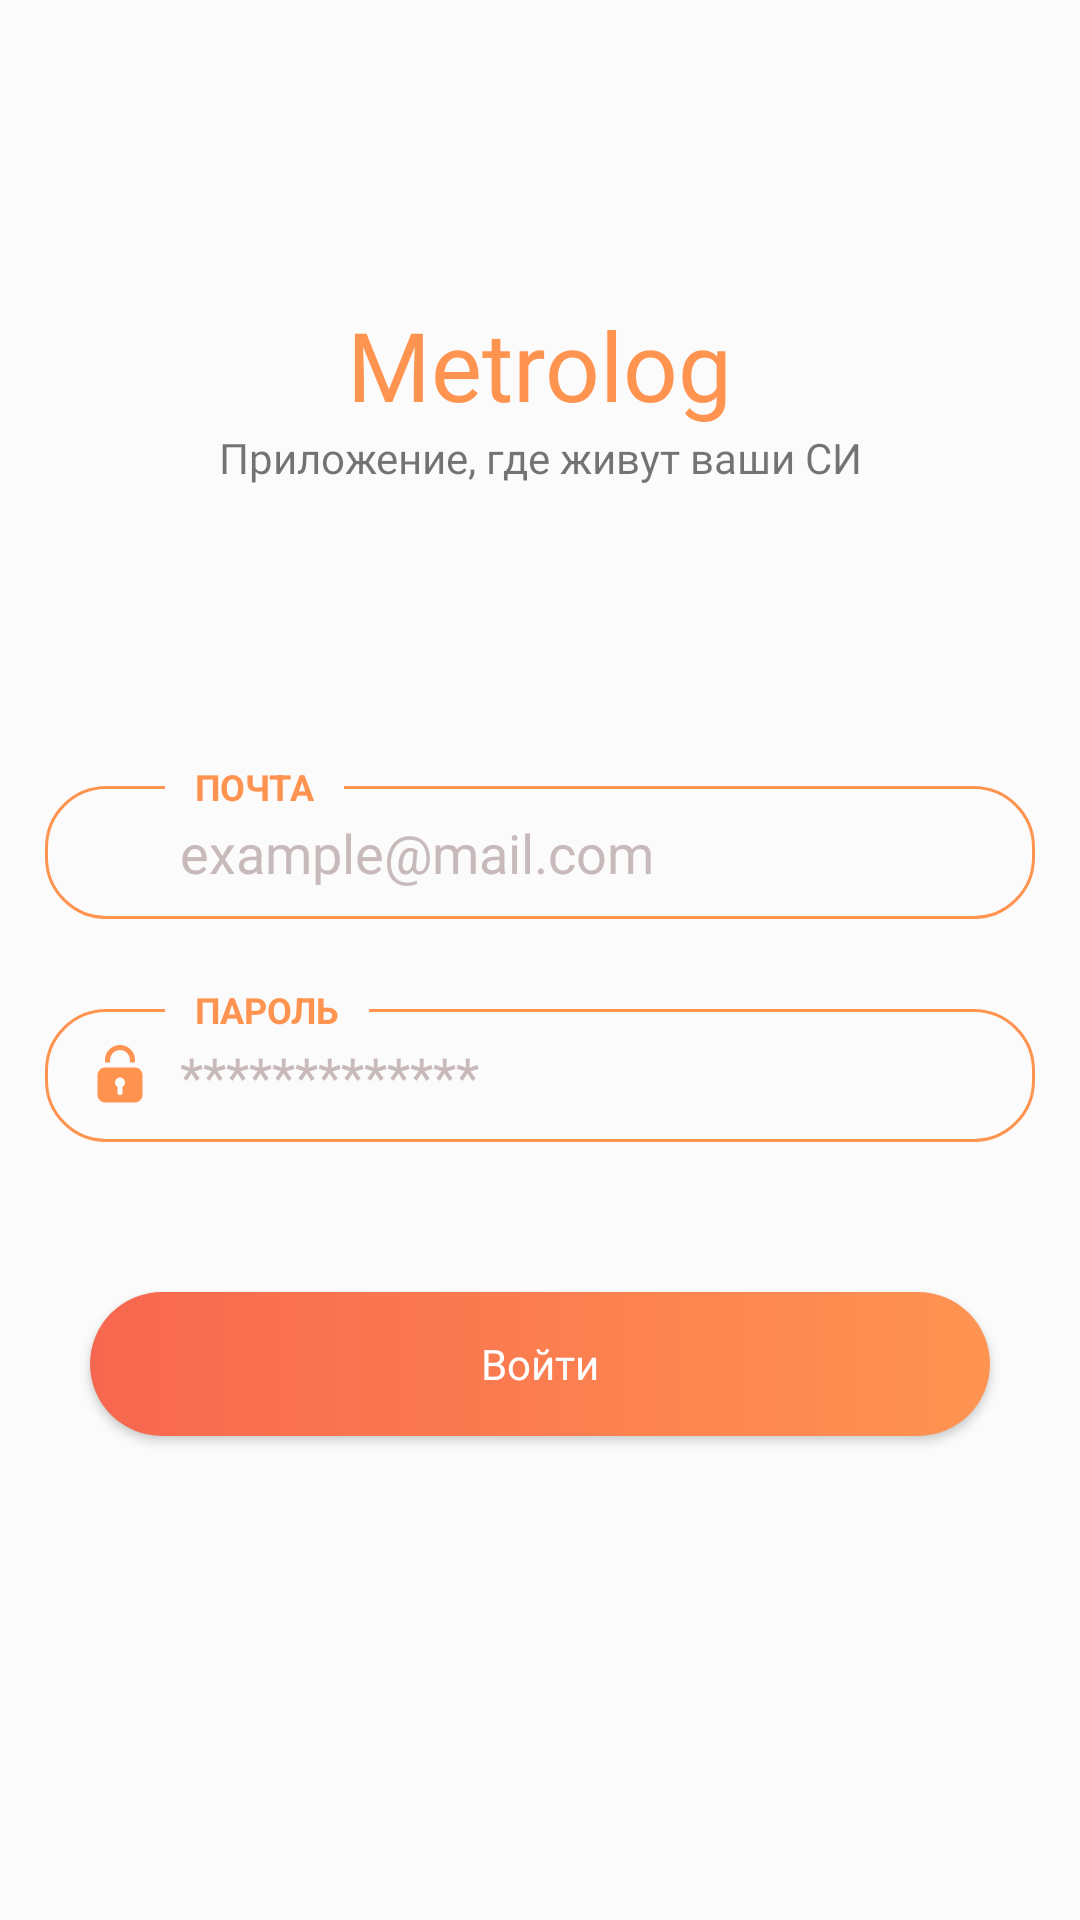

Screen size 1080w x 1920h. Icon name, then its center in pixels as (x=x, y=y):
lock: (x=120, y=1074)
